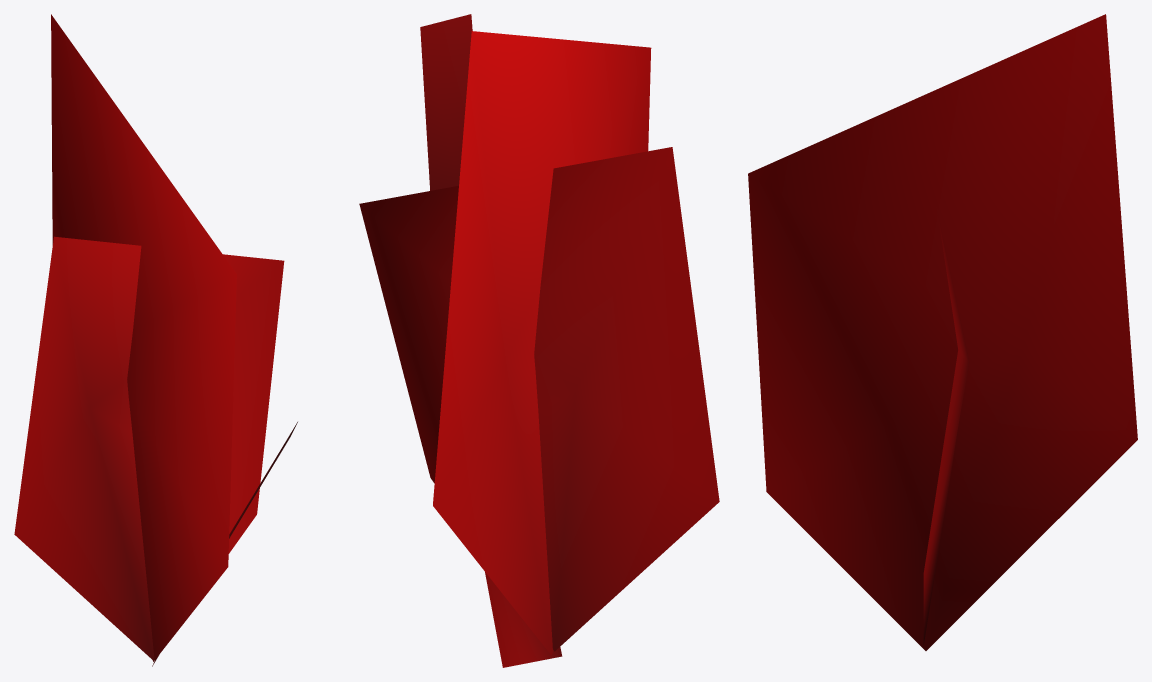
File: SM_WheatPlants_3.fbx
The picture shows the model from 3 angles, left to right: view 1: azimuth 30°, elevation 25°; view 2: azimuth 150°, elevation 25°; view 3: azimuth 270°, elevation 25°; orthographic projection. The views are drawn at different scales.
Parts seen in each view (by area): view 1: SM_WheatPlants_3; view 2: SM_WheatPlants_3; view 3: SM_WheatPlants_3.
Part boxes in pixels (<box>): SM_WheatPlants_3: <box>14,14,297,666</box>; SM_WheatPlants_3: <box>359,14,719,667</box>; SM_WheatPlants_3: <box>748,14,1137,650</box>.
Size of the model in its own units: 0.2158 by 0.4283 by 0.2394.
